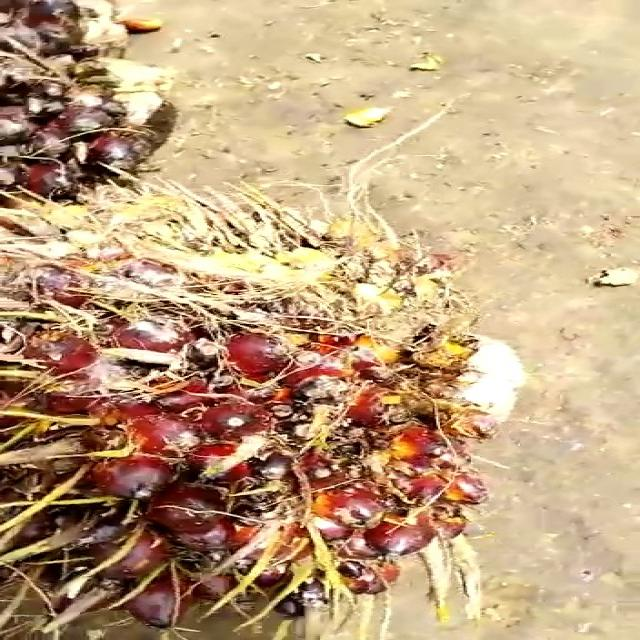palm oil: (0, 202, 577, 640)
